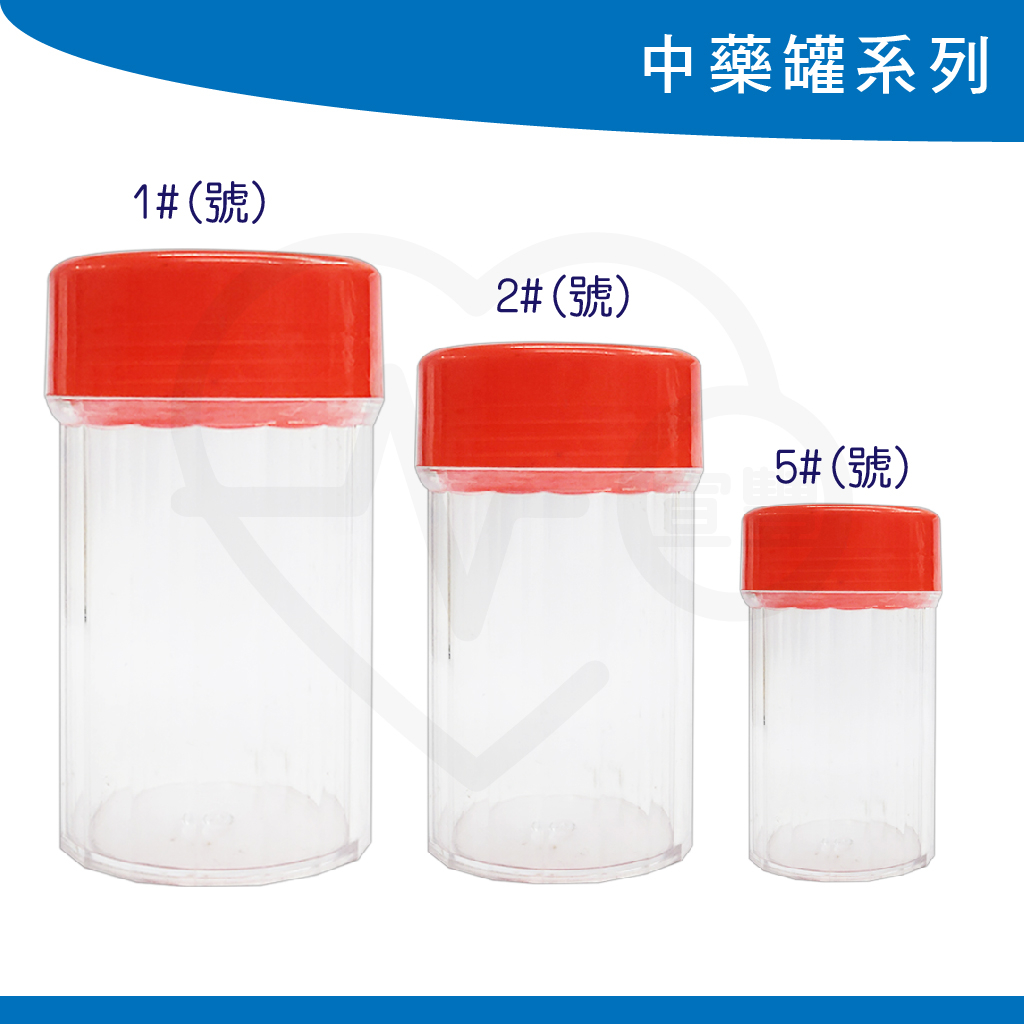medicinejar: (40, 239, 396, 900), (418, 339, 714, 890), (736, 500, 945, 890)
